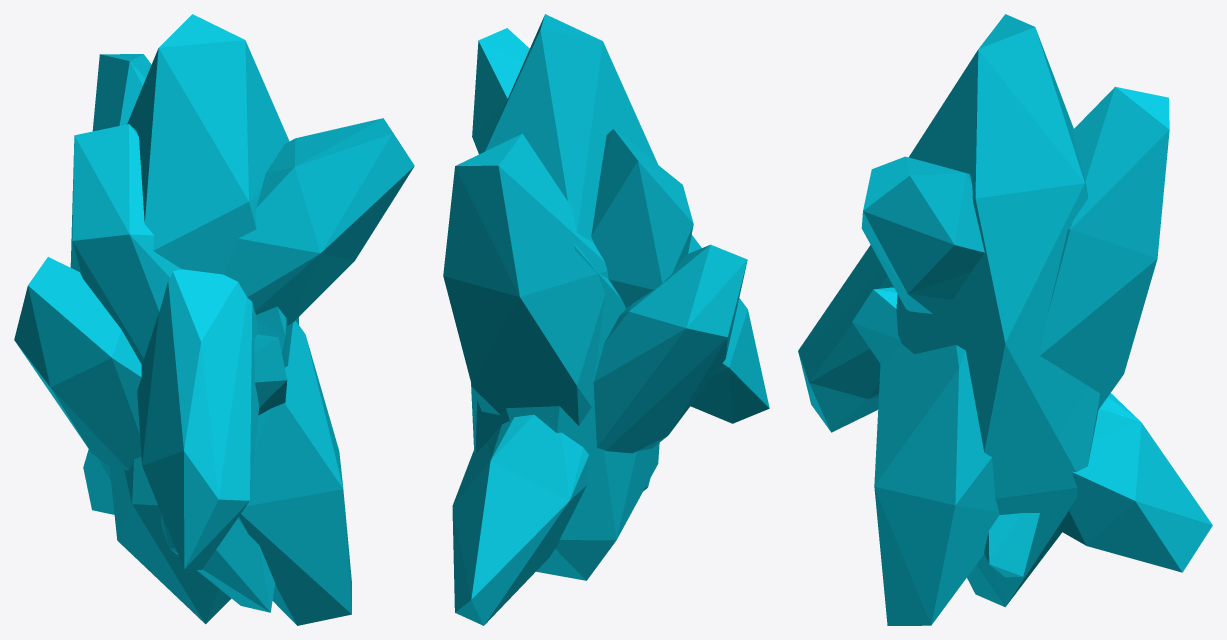
File: Cristal Grande V2.fbx
3 renders of one model, left to right at view 1: azimuth 30°, elevation 25°; view 2: azimuth 150°, elevation 25°; view 3: azimuth 270°, elevation 25°, orthographic. The views are drawn at different scales.
Parts seen in each view (by area): view 1: Icosphere.005; view 2: Icosphere.005; view 3: Icosphere.005.
Boxes of the visible parts, bbox=[...] form: Icosphere.005: bbox=[14, 14, 414, 625]; Icosphere.005: bbox=[443, 14, 769, 625]; Icosphere.005: bbox=[798, 14, 1212, 625].
Bounding box in the file's own units: 147 × 253 × 165.
